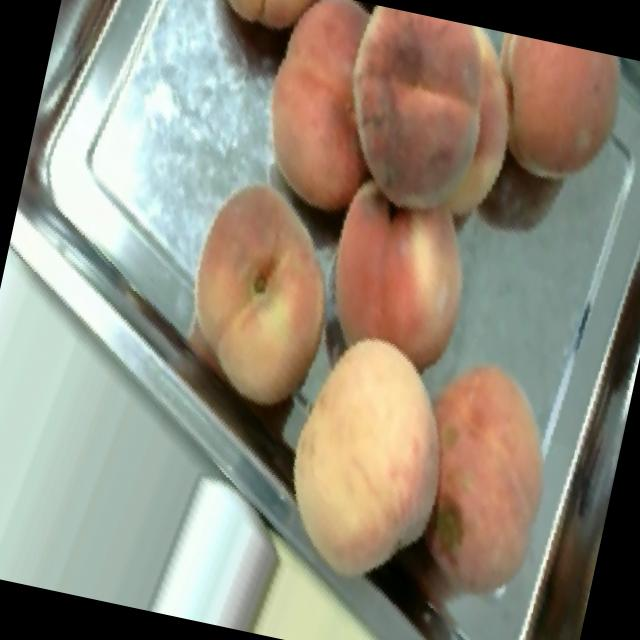Fruit: (242, 307, 466, 608), (143, 148, 374, 434), (379, 332, 598, 631), (294, 0, 548, 251), (214, 0, 412, 236), (289, 170, 495, 393), (463, 30, 640, 208), (168, 0, 354, 64)
